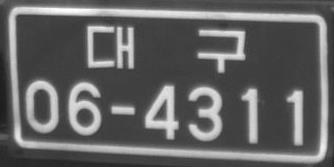0: (24, 79, 59, 132)
1: (232, 87, 271, 143), (276, 89, 314, 146)
3: (187, 85, 223, 140)
4: (145, 84, 179, 140)
6: (68, 80, 101, 135)
대구_D: (81, 24, 247, 72)
